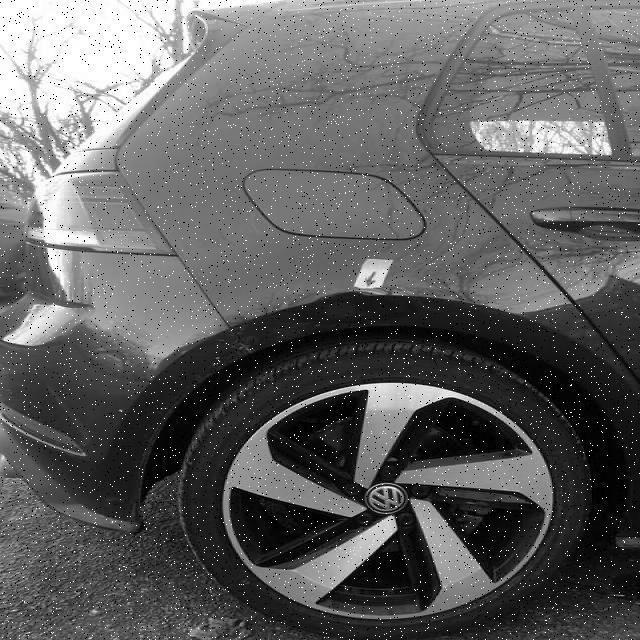quaterpanel-dent: (132, 133, 522, 420)
